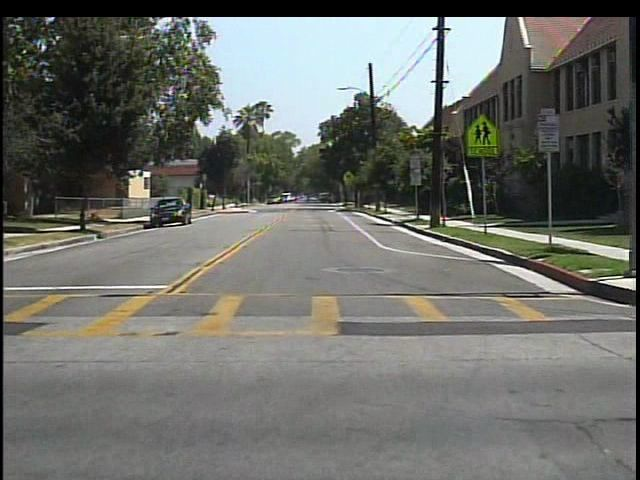person: (301, 191, 316, 209)
